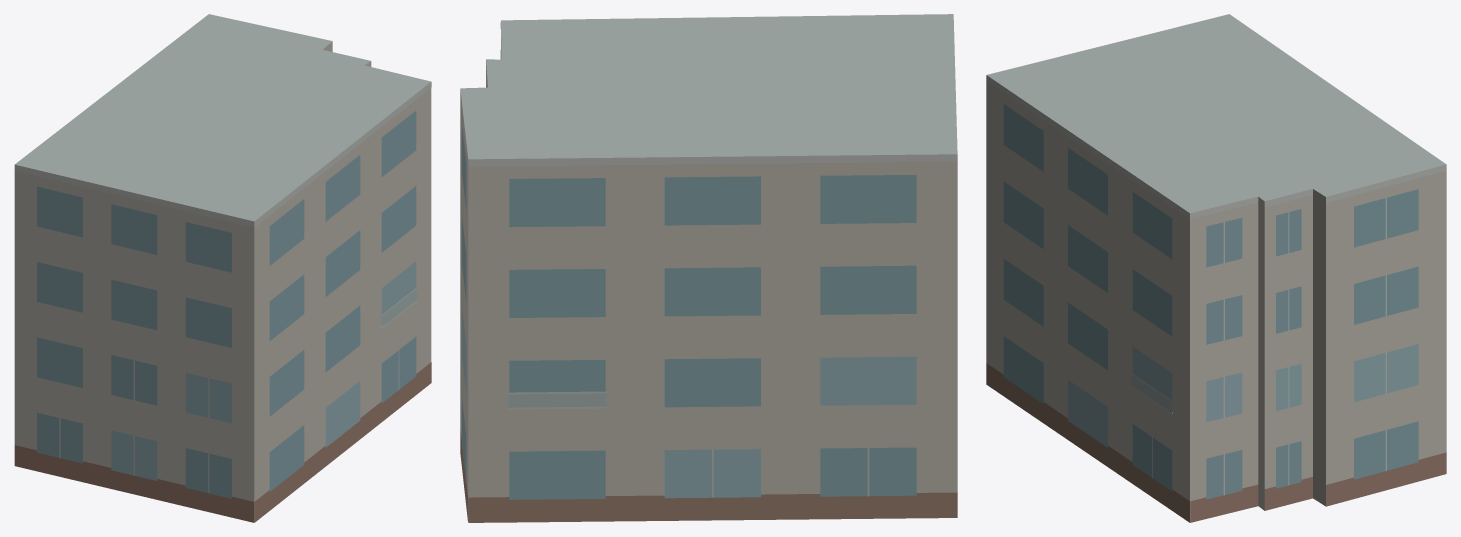
Rendered from survey-upis-32861920.glb.
3 views of the same model, side by side, from view 1: azimuth 30°, elevation 25°; view 2: azimuth 150°, elevation 25°; view 3: azimuth 270°, elevation 25° (orthographic). The views are drawn at different scales.
Parts seen in each view (by area): view 1: survey-upis-32861920.tmp; view 2: survey-upis-32861920.tmp; view 3: survey-upis-32861920.tmp.
Part boxes in pixels (<box>): survey-upis-32861920.tmp: <box>14,14,431,522</box>; survey-upis-32861920.tmp: <box>460,14,957,522</box>; survey-upis-32861920.tmp: <box>986,14,1446,522</box>.
Bounding box in the file's own units: 16.85 × 12.2 × 16.44.
